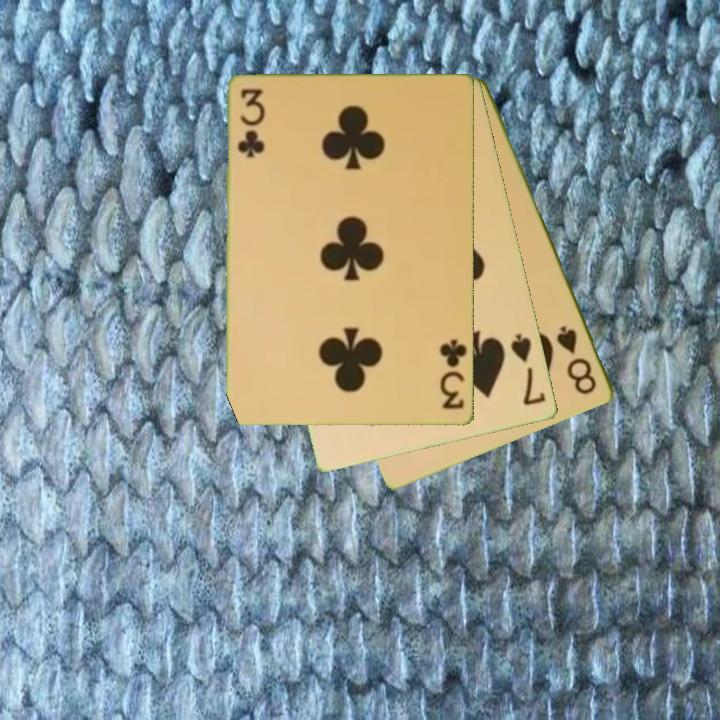3c: (436, 336, 470, 412), (234, 85, 264, 161)
7s: (507, 330, 549, 409)
8s: (553, 322, 600, 398)
